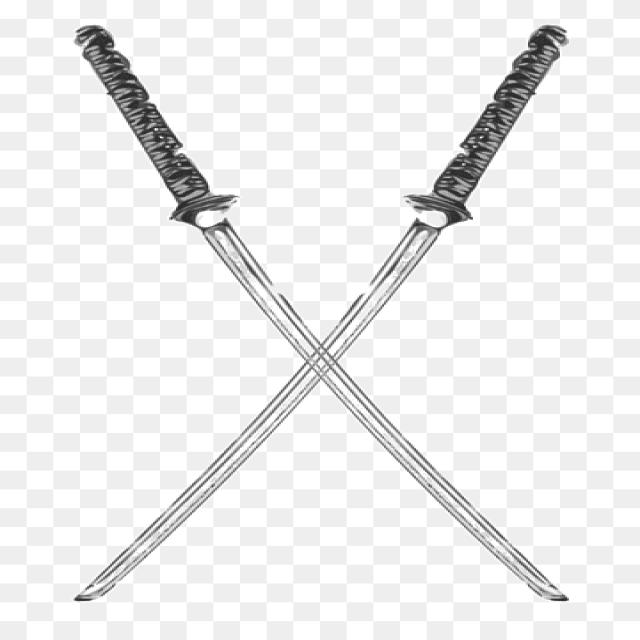knife: (73, 22, 570, 606), (75, 23, 570, 603)
